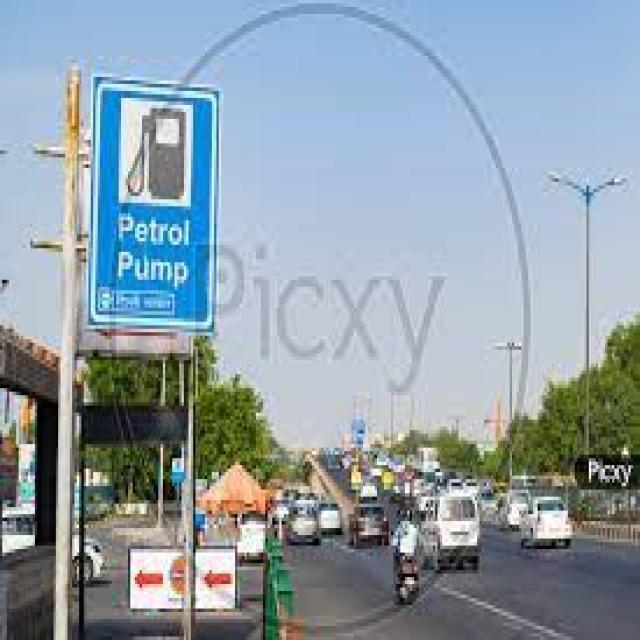petrol pump ahead: (102, 82, 213, 225)
